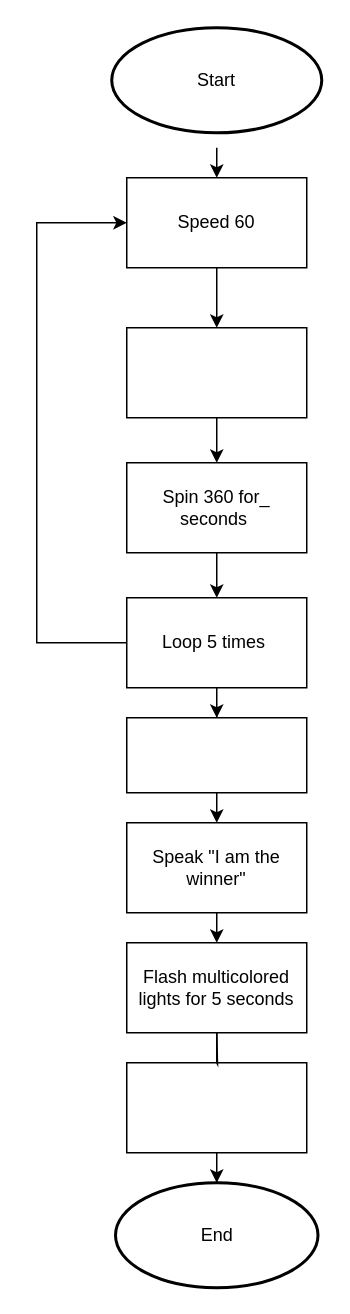
The diagram is 350 pixels wide and 1314 high, and some of its shapes have lost their labels. Here are the shapes that lost their labels. From the top down, the centre of each, then its label:
At [216,372]: "Spin 360 for _seconds".
At [216,754]: "Turn right___ degrees".
At [216,1107]: "End program".
